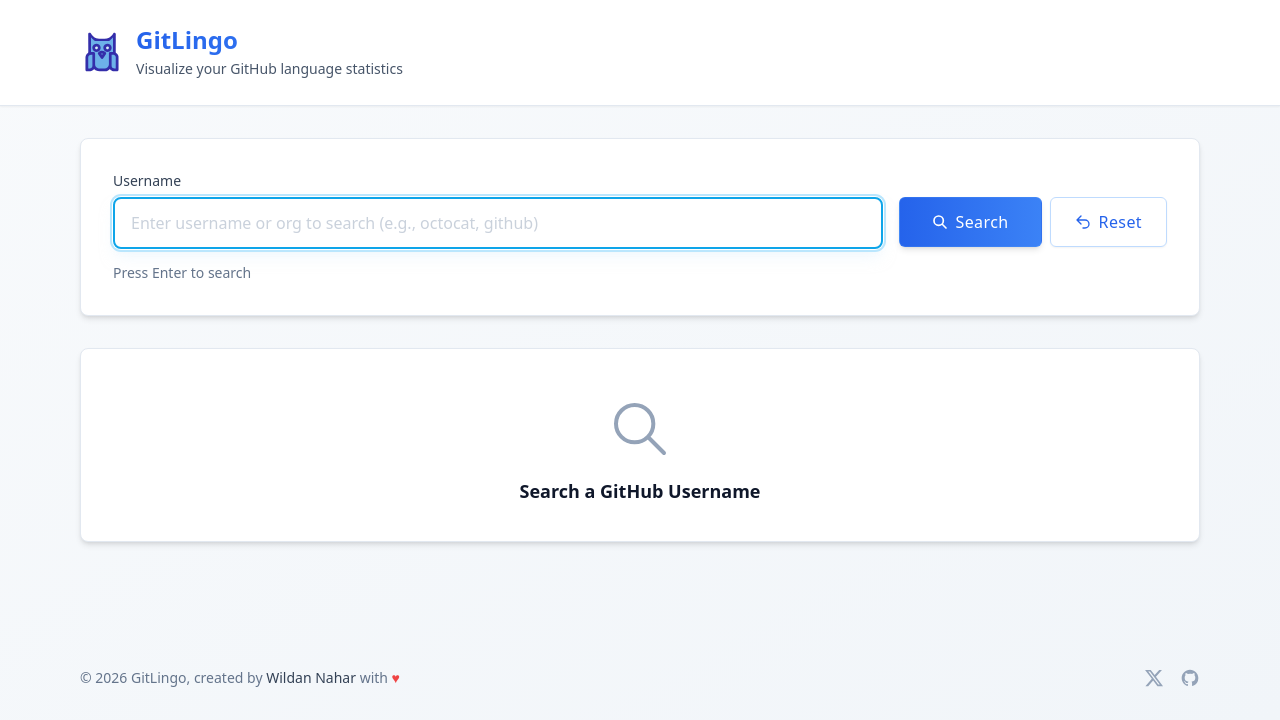
Test case: search flow — success › shows loading skeletons while the search is in-flight
The width and height of the screenshot is (1280, 720).
Type "octocat" into the field labelled "Username" at point(498, 223), box [113,197,882,249]
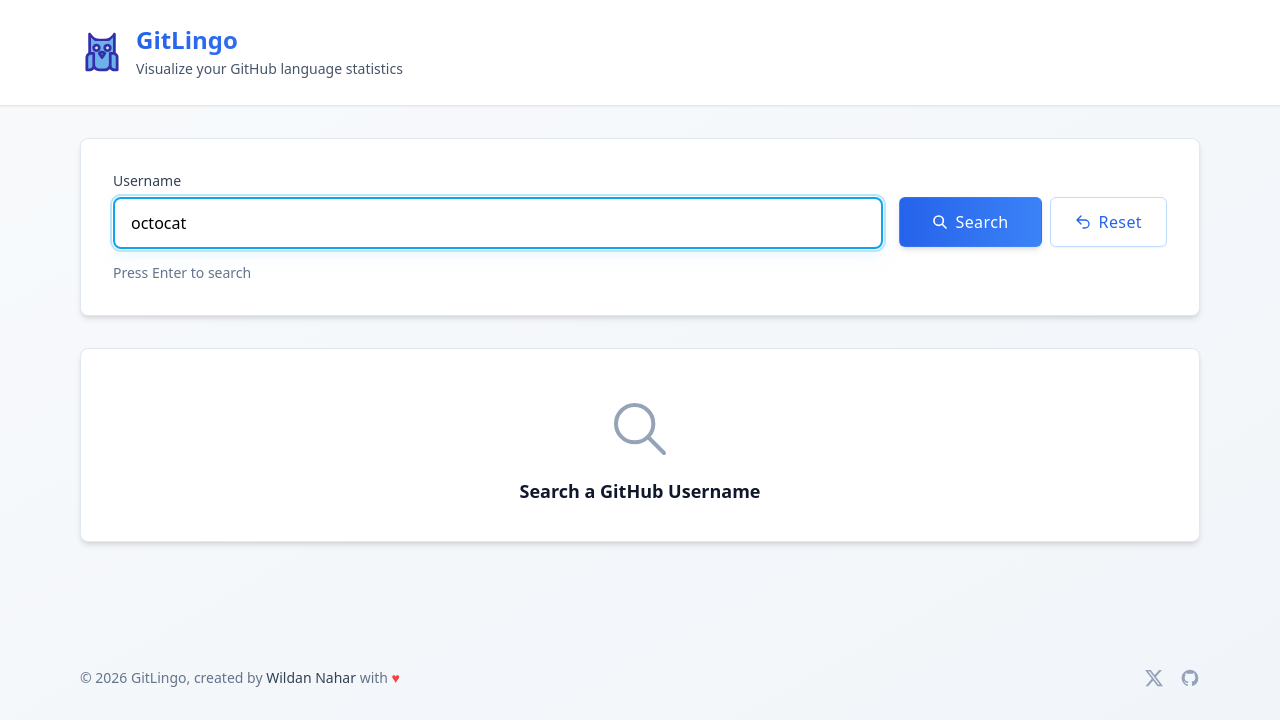
Click the button "Search" at point(970, 222), box [898,197,1042,247]
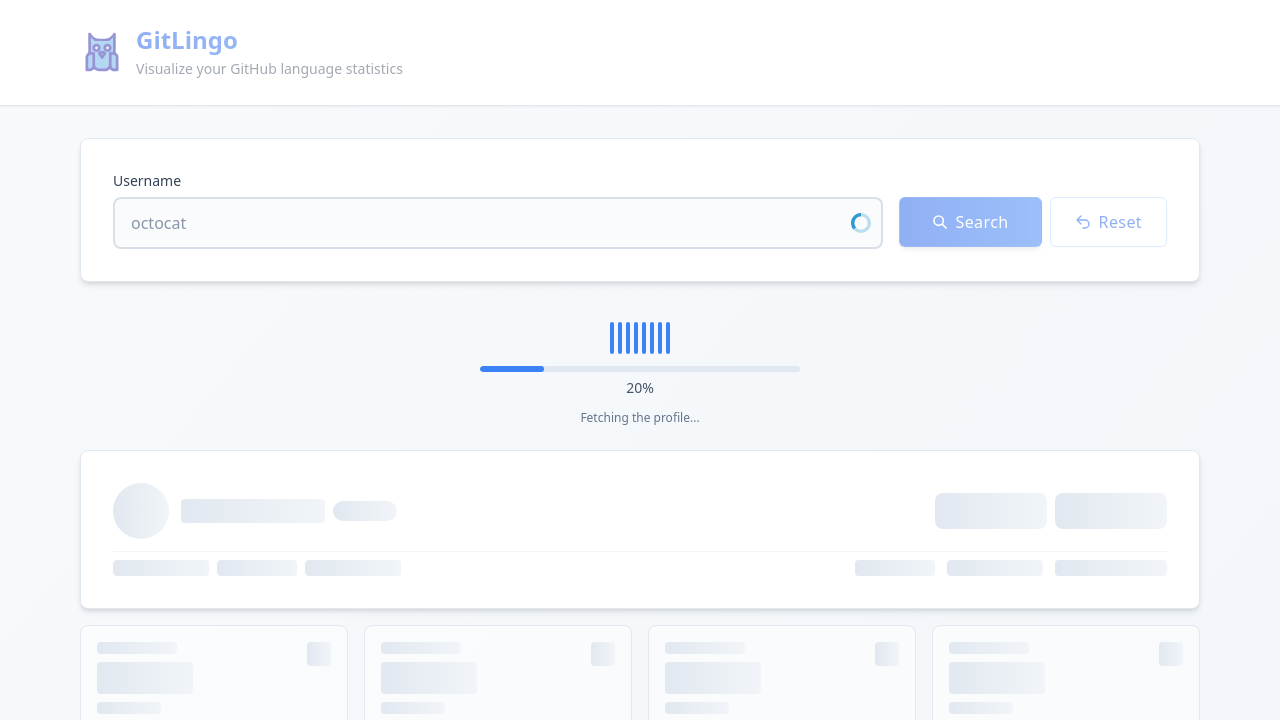
expect the message "20% Fetching the profile..." is shown: met, box [480,314,800,434]
